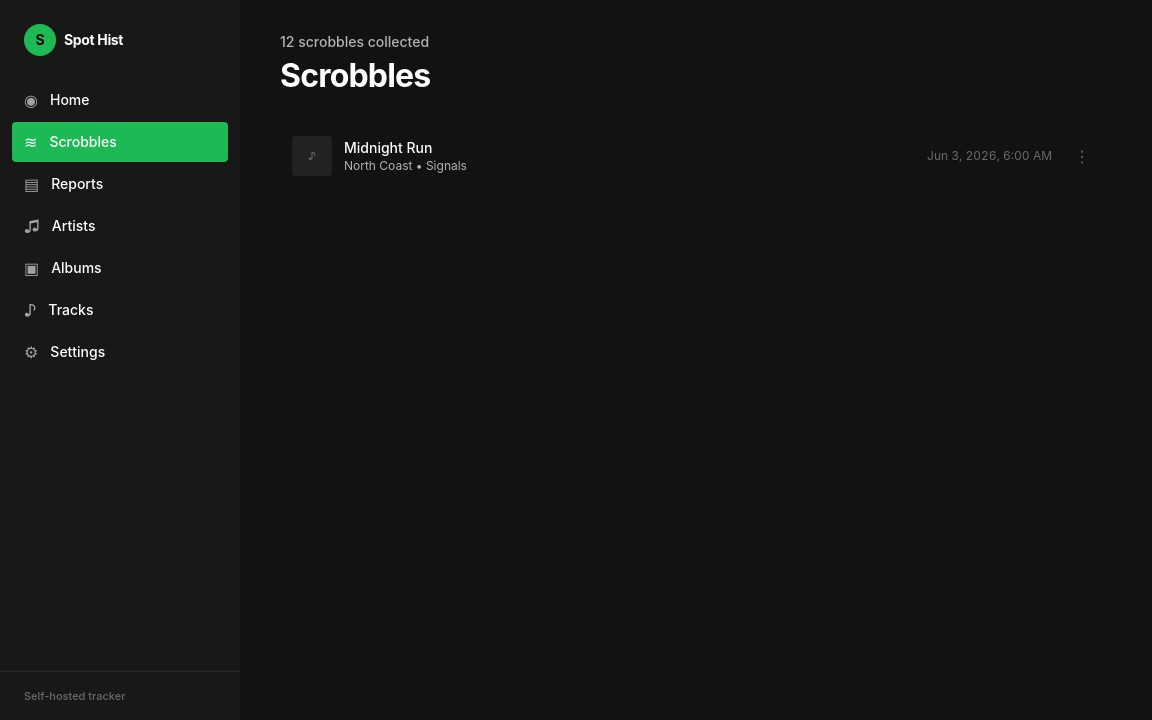
Scenario: scrobbles page › shows an inline error when scrobble deletion fails
The width and height of the screenshot is (1152, 720).
expect the link "Midnight Run" is shown: met, box x1=344 y1=139 x2=432 y2=156
Step 1. Click the button named "Scrobble actions" → (1082, 156), box x1=1064 y1=138 x2=1100 y2=174
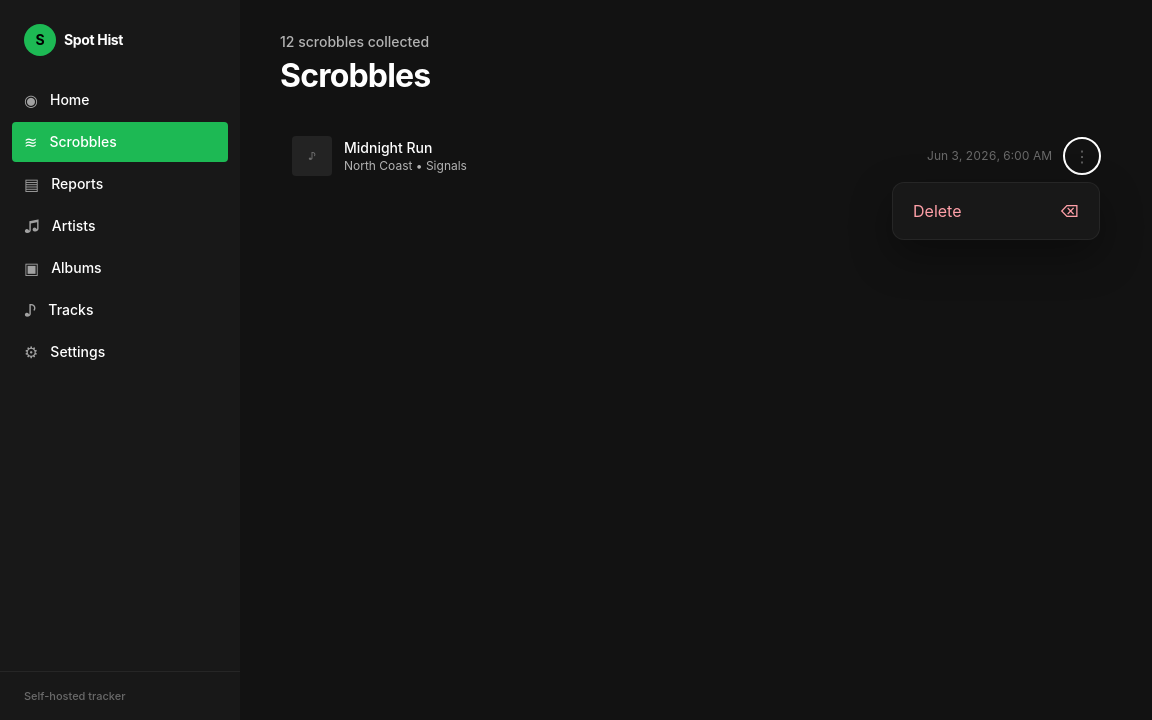
Step 2. Click the button "Delete ⌫" → (996, 211), box x1=901 y1=191 x2=1091 y2=231
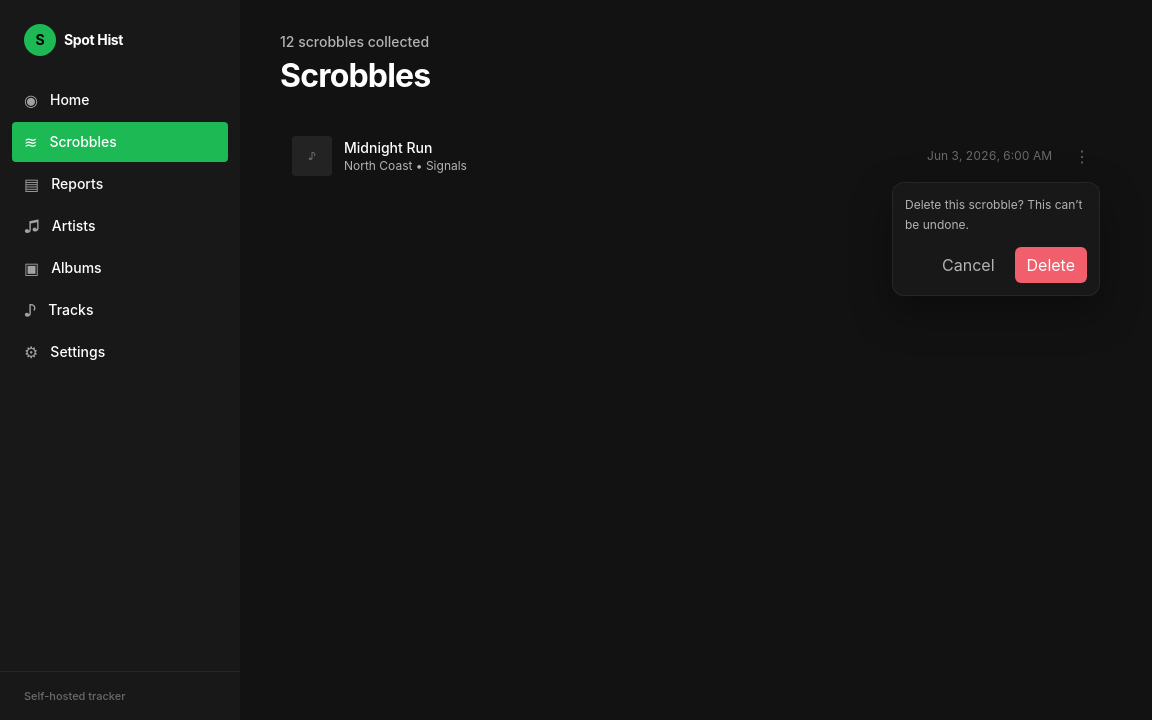
Step 3. Click the button "Delete" → (1051, 265), box x1=1014 y1=247 x2=1087 y2=283
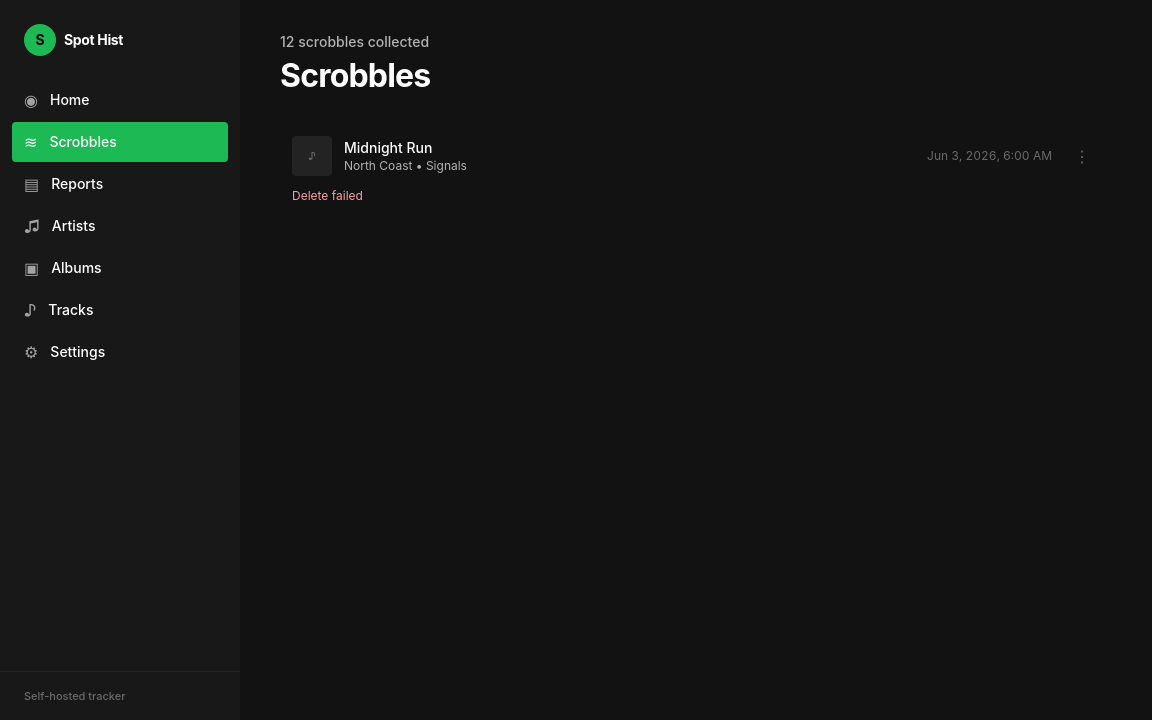
expect the link "Midnight Run" is shown: met, box x1=344 y1=139 x2=432 y2=156
expect the text "Delete failed" is shown: met, box x1=292 y1=188 x2=363 y2=203
